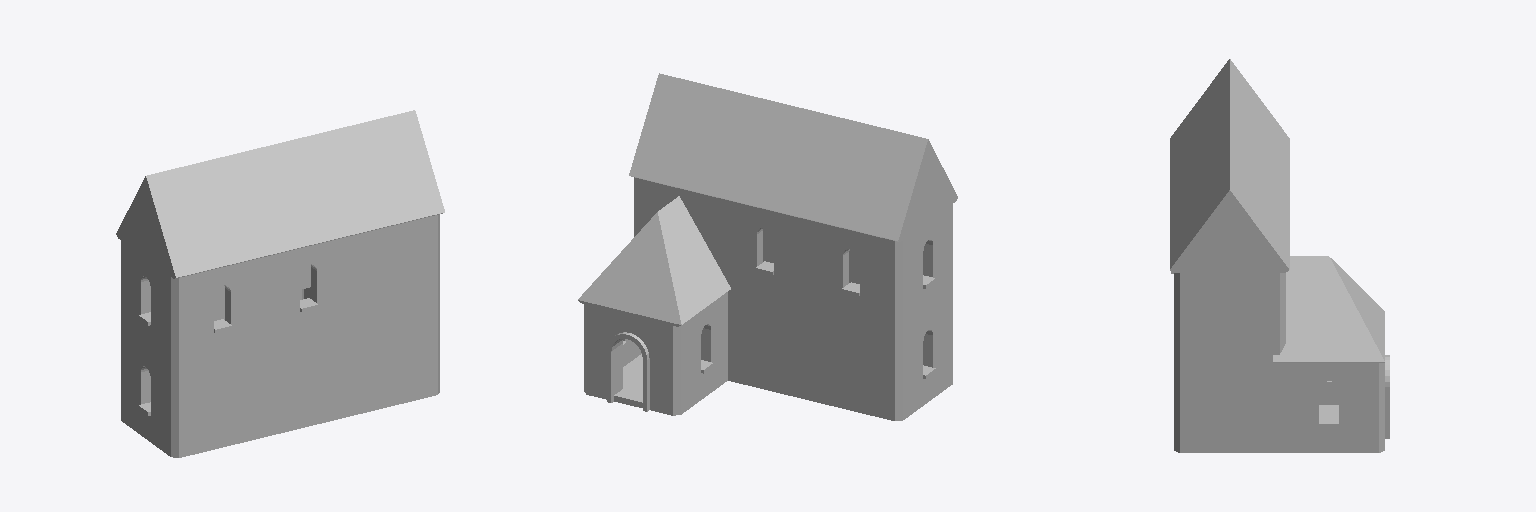
The model's file is House_3.obj.
3 views of the same model, side by side, from view 1: azimuth 30°, elevation 25°; view 2: azimuth 150°, elevation 25°; view 3: azimuth 270°, elevation 25° (orthographic).
Parts seen in each view (by area): view 1: roof_straight_190, roof_straight_189, roof_straight_192, wall_windowRound_181, wall_straight_167, wall_corner_180, wall_corner_159, wall_straight_165, wall_windowRound_194, wall_windowRound_168, wall_windowRound_195; view 2: roof_straight_190, roof_end_188, roof_straight_189, roof_straight_192, wall_windowRound_183, wall_straight_166, wall_windowRound_193, wall_doorwayRound_169, wall_straight_164, wall_windowRound_195, wall_windowRound_168, wall_windowRound_163 (+4 smaller); view 3: roof_straight_189, wall_corner_180, wall_corner_159, roof_end_188, wall_windowRound_160, roof_straight_190, roof_straight_192.
Boxes of the visible parts, x1,y1,x2,y2 form: roof_straight_190: [116, 152, 272, 278]; roof_straight_189: [319, 110, 444, 235]; roof_straight_192: [238, 131, 358, 256]; wall_windowRound_181: [171, 257, 265, 367]; wall_straight_167: [171, 347, 265, 457]; wall_corner_180: [352, 214, 439, 325]; wall_corner_159: [352, 302, 439, 415]; wall_straight_165: [266, 326, 351, 432]; wall_windowRound_194: [266, 236, 351, 346]; wall_windowRound_168: [121, 331, 178, 457]; wall_windowRound_195: [121, 241, 178, 366]; roof_straight_190: [801, 118, 957, 241]; roof_end_188: [578, 196, 730, 326]; roof_straight_189: [629, 73, 755, 199]; roof_straight_192: [715, 97, 841, 219]; wall_windowRound_183: [809, 220, 902, 330]; wall_straight_166: [809, 310, 902, 420]; wall_windowRound_193: [722, 199, 808, 309]; wall_doorwayRound_169: [587, 305, 680, 415]; wall_straight_164: [728, 291, 808, 399]; wall_windowRound_195: [903, 204, 952, 329]; wall_windowRound_168: [903, 294, 952, 419]; wall_windowRound_163: [681, 292, 727, 413]; roof_straight_189: [1170, 143, 1289, 272]; wall_corner_180: [1174, 273, 1285, 362]; wall_corner_159: [1174, 361, 1279, 452]; roof_end_188: [1273, 256, 1384, 362]; wall_windowRound_160: [1280, 363, 1384, 452]; roof_straight_190: [1170, 59, 1289, 179]; roof_straight_192: [1170, 103, 1289, 223].
Bounding box in the file's own units: 3.2 × 2.92 × 2.22.